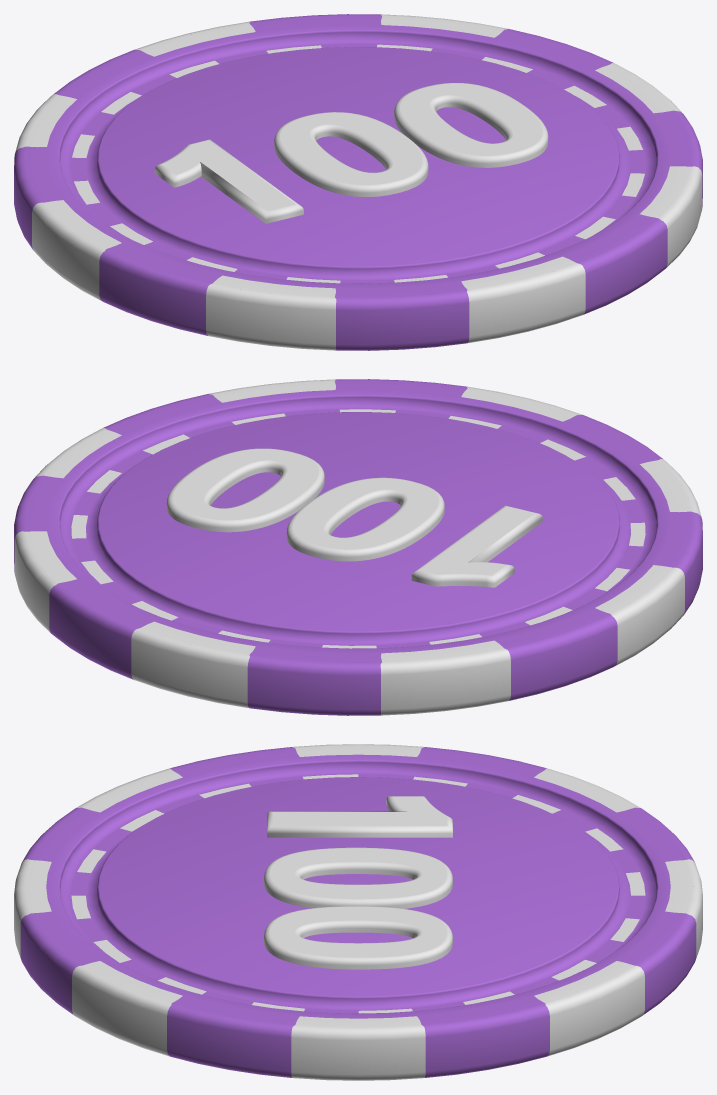
Rendered from chip_100.glb.
3 renders of one model, top to bottom at view 1: azimuth 30°, elevation 25°; view 2: azimuth 150°, elevation 25°; view 3: azimuth 270°, elevation 25°, orthographic.
Visible parts, largest first — view 1: 100; view 2: 100; view 3: 100.
Boxes of the visible parts, box(x1,y1,x2,y2) form: 100: box(14, 14, 702, 350); 100: box(14, 379, 702, 715); 100: box(14, 744, 702, 1080).
Size of the model in its own units: 0.0802 by 0.00911 by 0.0802.
